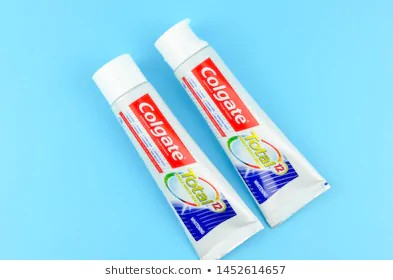colgate-total-150gm: (151, 1, 329, 230), (86, 43, 261, 262)
